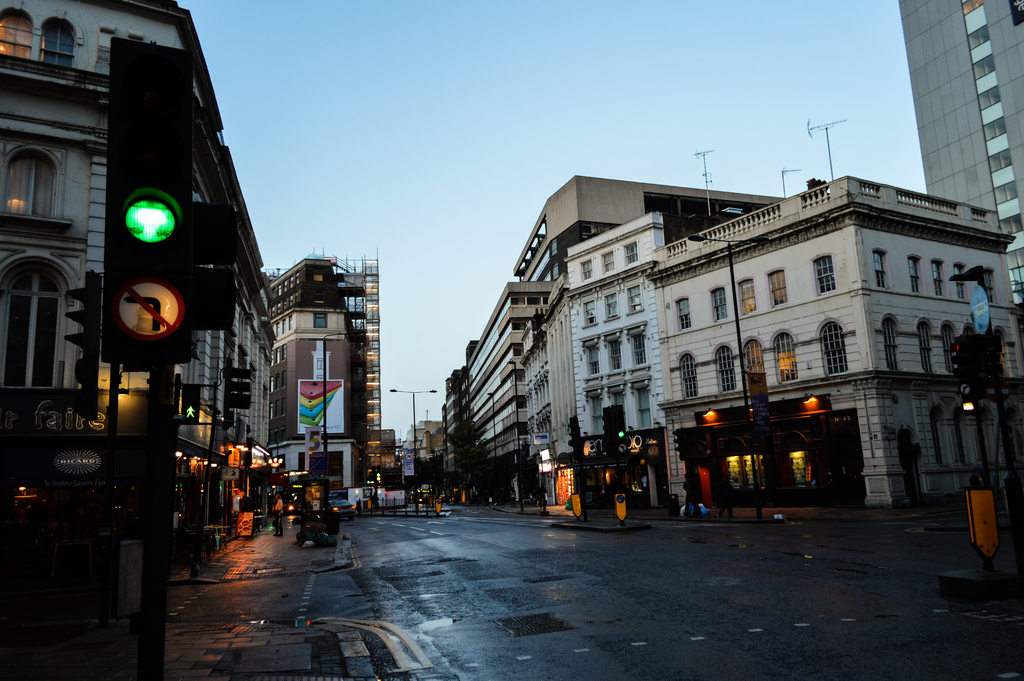green_light: (110, 38, 193, 265)
